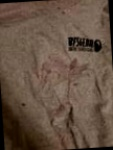wine: (44, 53, 86, 81), (50, 97, 70, 119), (20, 100, 31, 109), (57, 8, 66, 15)
